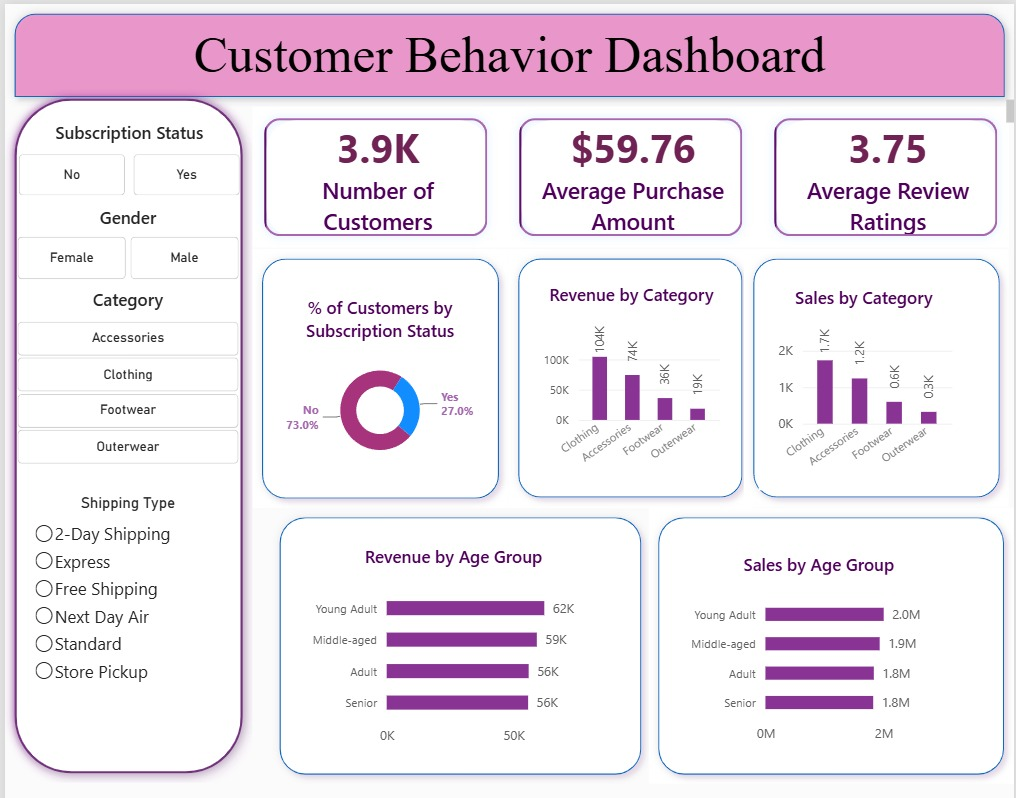

What the dashboard file says about the page in this screenshot:
{"tool":"powerbi","page":{"name":"Dashboard","canvas":[950,1500],"ordinal":0},"visuals":[{"type":"cardVisual","fields":{"Data":["customer_shopping_da4 customer.Number of Customers","customer_shopping_da4 customer.Average Purchase Amount","customer_shopping_da4 customer.Average Review Ratings"]},"box":[233,97,712,133],"z":0},{"type":"shape","box":[0,0,950,96.6],"z":1000},{"type":"textbox","box":[920,96.5,733,150],"z":2000},{"type":"textbox","box":[1663,97,733,150],"z":3000},{"type":"textbox","title":"Customer Behavior Dashboard","box":[0,21.6,950,96.6],"z":4000},{"type":"shape","box":[233,230,241,244],"z":5000,"group":"g1"},{"type":"group","id":"g1","title":"Group 1","box":[233,230,241,244],"z":5000},{"type":"shape","box":[695,230,250,243],"z":5000,"group":"g3"},{"type":"shape","box":[474,231,229,243],"z":5000,"group":"g2"},{"type":"shape","box":[249.3,474,358.4,260.2],"z":5000,"group":"g4"},{"type":"shape","box":[606,474,343.4,260.2],"z":5000,"group":"g5"},{"type":"group","id":"g2","title":"Group 1","box":[474,231,229,243],"z":6000},{"type":"group","id":"g3","title":"Group 1","box":[695,230,250,243],"z":7000},{"type":"clusteredColumnChart","title":"Revenue by Category","fields":{"Category":["customer_shopping_da4 customer.category"],"Y":["Sum(customer_shopping_da4 customer.purchase_amount)"]},"box":[490,247,198,207],"z":8000},{"type":"donutChart","title":"% of Customers by Subscription Status","fields":{"Series":["customer_shopping_da4 customer.subscription_status"],"Y":["CountNonNull(customer_shopping_da4 customer.customer_id)"]},"box":[245.2,259.2,216.5,186.8],"z":8000,"group":"g1"},{"type":"clusteredColumnChart","title":"Sales by Category","fields":{"Category":["customer_shopping_da4 customer.category"],"Y":["CountNonNull(customer_shopping_da4 customer.customer_id)"]},"box":[709,250,198,207],"z":9000},{"type":"shape","box":[0,79.6,232.7,653.1],"z":10000},{"type":"advancedSlicerVisual","title":"Subscription Status","fields":{"Values":["customer_shopping_da4 customer.subscription_status"]},"box":[12.5,109.1,208,71],"z":11000},{"type":"advancedSlicerVisual","title":"Gender","fields":{"Values":["customer_shopping_da4 customer.gender"]},"box":[11.4,189.8,208,70],"z":12000},{"type":"advancedSlicerVisual","title":"Category","fields":{"Values":["customer_shopping_da4 customer.category"]},"box":[11.4,267,208,166],"z":13000},{"type":"listSlicer","title":"Shipping Type","fields":{"Values":["customer_shopping_da4 customer.shipping_type"]},"box":[11.4,445.5,208,222.7],"z":14000},{"type":"group","id":"g4","title":"Group 2","box":[249.3,474,358.4,260.2],"z":15000},{"type":"clusteredBarChart","title":"Revenue by Age Group","fields":{"Category":["customer_shopping_da4 customer.age_group"],"Y":["Sum(customer_shopping_da4 customer.purchase_amount)"]},"box":[267.6,493.4,308,223],"z":15000,"group":"g4"},{"type":"clusteredBarChart","title":"Sales by Age Group","fields":{"Category":["customer_shopping_da4 customer.age_group"],"Y":["Sum(customer_shopping_da4 customer.customer_id)"]},"box":[624.6,501.5,282.5,214.6],"z":15000,"group":"g5"},{"type":"group","id":"g5","title":"Group 1","box":[606,474,343.4,260.2],"z":16000}]}

Visuals, with their boxes on the page's 950x1500 design canvas (x1, y1, x2, y2). These are canvas units, not pixel positions in the 1016x798 screenshot, which may show the page scaled, cropped or inside an application window:
cardVisual - customer_shopping_da4 customer.Number of Customers x customer_shopping_da4 customer.Average Purchase Amount: rect(233, 97, 945, 230)
shape: rect(0, 0, 950, 97)
textbox: rect(920, 96, 1653, 246)
textbox: rect(1663, 97, 2396, 247)
"Customer Behavior Dashboard" textbox: rect(0, 22, 950, 118)
shape: rect(233, 230, 474, 474)
"Group 1" group: rect(233, 230, 474, 474)
shape: rect(695, 230, 945, 473)
shape: rect(474, 231, 703, 474)
shape: rect(249, 474, 608, 734)
shape: rect(606, 474, 949, 734)
"Group 1" group: rect(474, 231, 703, 474)
"Group 1" group: rect(695, 230, 945, 473)
"Revenue by Category" clusteredColumnChart: rect(490, 247, 688, 454)
"% of Customers by Subscription Status" donutChart: rect(245, 259, 462, 446)
"Sales by Category" clusteredColumnChart: rect(709, 250, 907, 457)
shape: rect(0, 80, 233, 733)
"Subscription Status" advancedSlicerVisual: rect(12, 109, 220, 180)
"Gender" advancedSlicerVisual: rect(11, 190, 219, 260)
"Category" advancedSlicerVisual: rect(11, 267, 219, 433)
"Shipping Type" listSlicer: rect(11, 446, 219, 668)
"Group 2" group: rect(249, 474, 608, 734)
"Revenue by Age Group" clusteredBarChart: rect(268, 493, 576, 716)
"Sales by Age Group" clusteredBarChart: rect(625, 502, 907, 716)
"Group 1" group: rect(606, 474, 949, 734)
